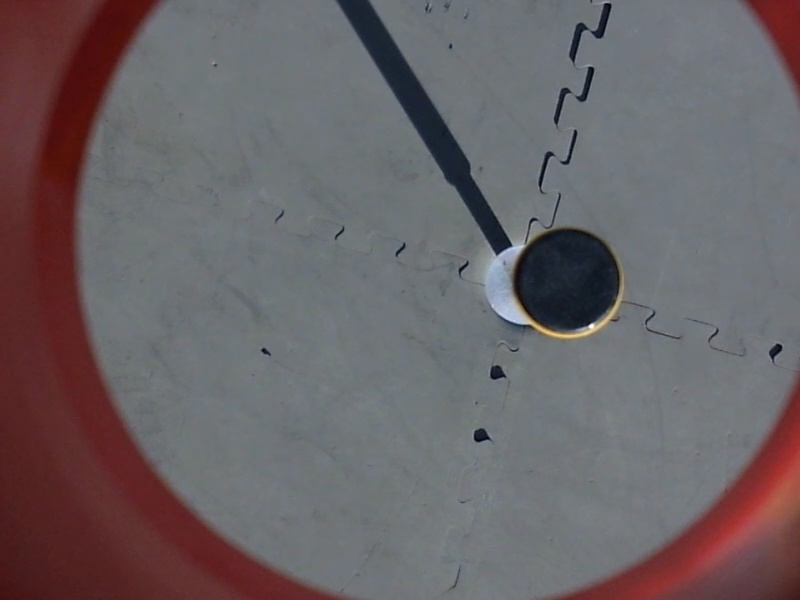tip: (511, 226, 625, 341)
